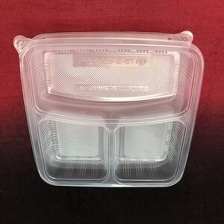plastic_box: (6, 22, 209, 196)
